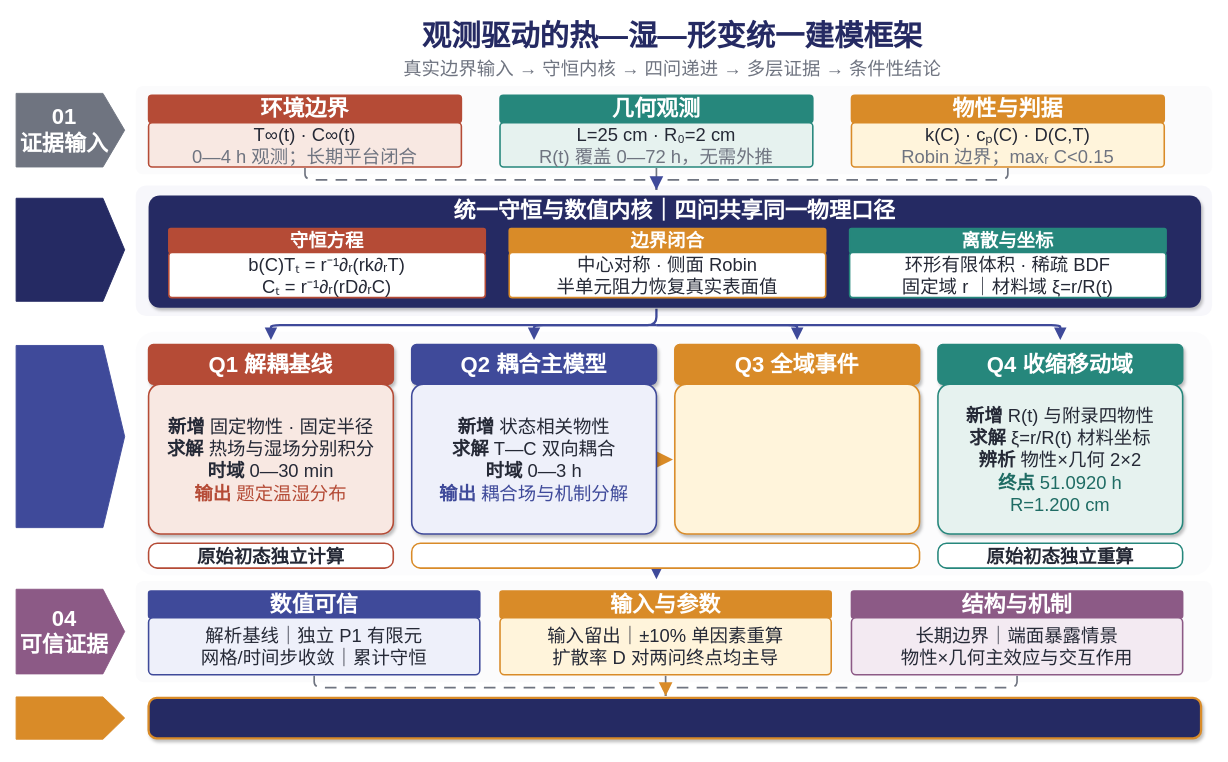
This 1228x762 diagram has some shape labels left out. The centre of each missing label's shape, as x and y in pixels:
"02 统一内核" goes at (70,249).
"03 四问递进" goes at (70,436).
"05 题定结论" goes at (70,717).
"Q2 全精度状态 → Q3 事件续算" goes at (665,555).
"稳定题定解 Q3 = 57.4740 h ｜ Q4 = 51.0920 h ｜ D 为主导参数 ｜ 结构/边界情景差远大于离散误差" goes at (675,719).
"继承 Q2 未舍入状态 判据 g(t)=max C−0.15 搜索 稠密输出定位首穿 终点 57.4740 h" goes at (797,460).
